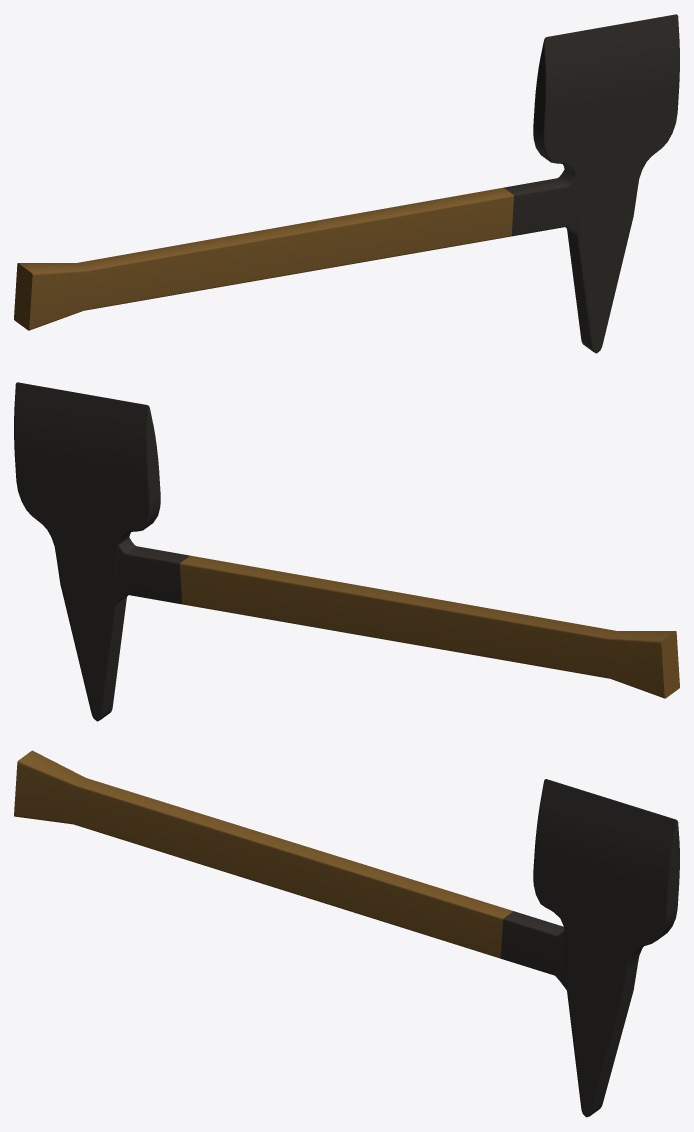
Rendered from mannarett.fbx.
The picture shows the model from 3 angles, top to bottom: view 1: azimuth 30°, elevation 25°; view 2: azimuth 150°, elevation 25°; view 3: azimuth 330°, elevation 25°; orthographic projection.
Visible parts, largest first — view 1: Cube.005; view 2: Cube.005; view 3: Cube.005.
Boxes of the visible parts, x1,y1,x2,y2 form: Cube.005: (14,14,679,353); Cube.005: (14,382,679,721); Cube.005: (14,750,679,1117).
Bounding box in the file's own units: 3066 × 1444 × 124.
